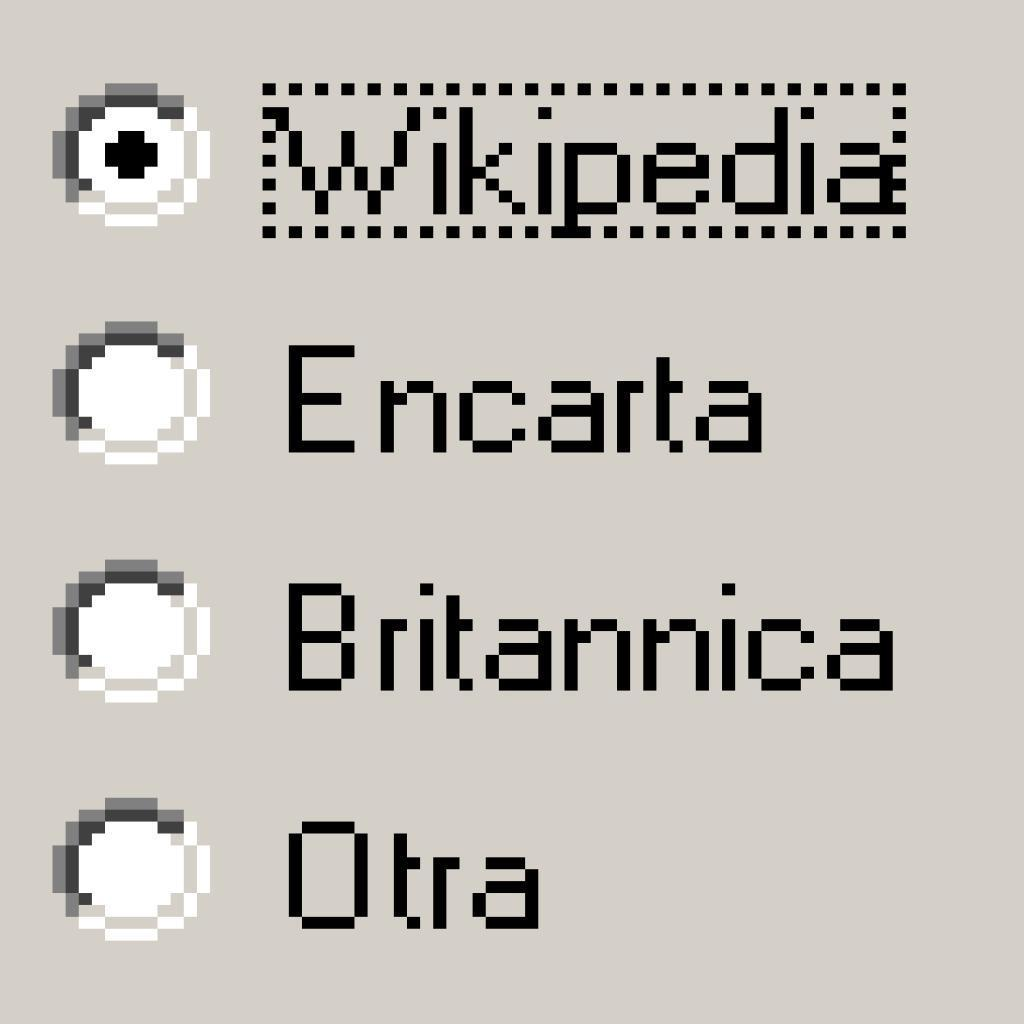radio: (39, 78, 217, 235), (51, 310, 217, 471), (44, 548, 216, 701), (41, 791, 208, 948)
